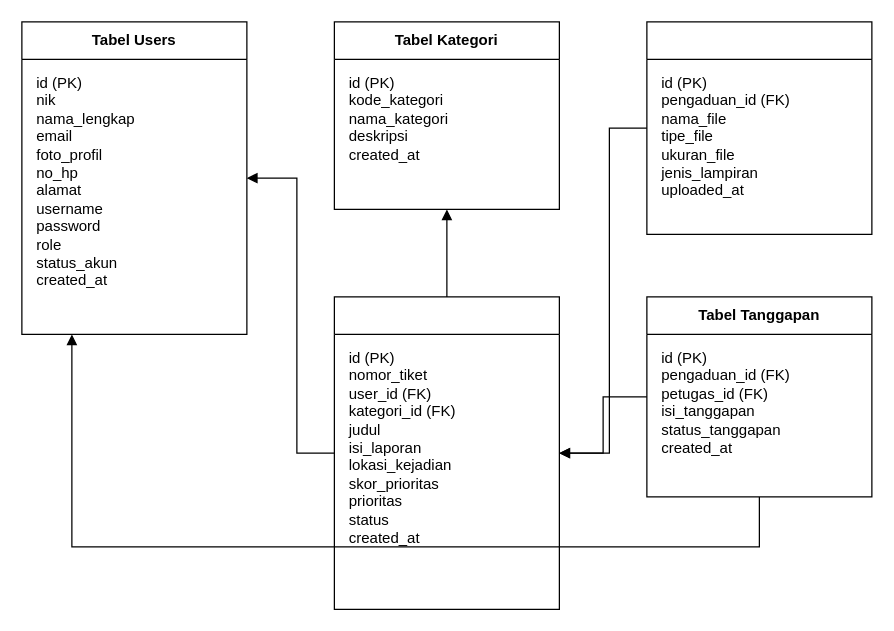
Some shapes in this 894 by 631 pixel diagram are drawn without their labels. Each missing label, with the box of its shape:
Tabel Lampiran: (646, 21, 872, 234)
Tabel Pengaduan: (333, 296, 559, 609)
